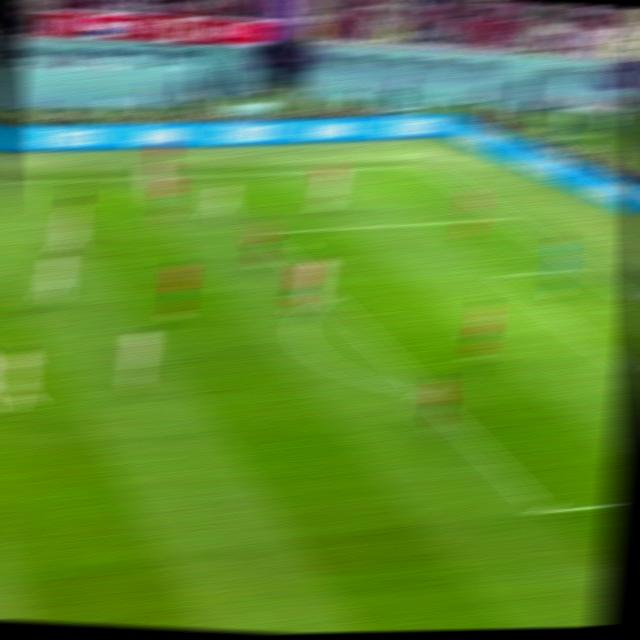bigarea_bottom_inner: (526, 495, 560, 524)
bigarea_top_inner: (250, 223, 275, 242)
bigarea_top_outter: (490, 207, 519, 225)
bottom_arc_area_intersection: (410, 381, 438, 404)
corner: (409, 157, 439, 173)
smallarea_top_inner: (484, 264, 514, 285)
smallarea_top_outter: (568, 258, 595, 277)
top_arc_area_intersection: (313, 285, 340, 306)
